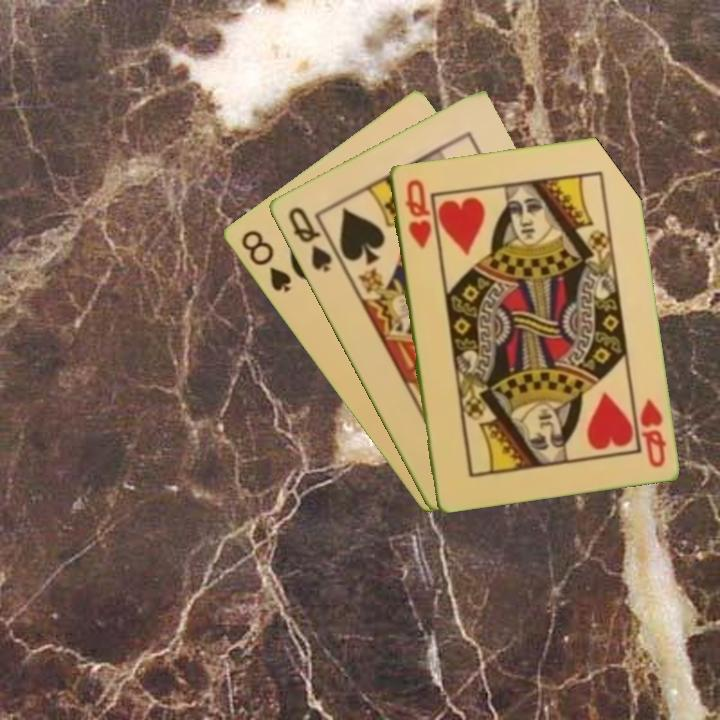8s: (236, 226, 294, 296)
Qh: (635, 394, 669, 470), (401, 175, 434, 251)
Qs: (284, 203, 335, 275)
